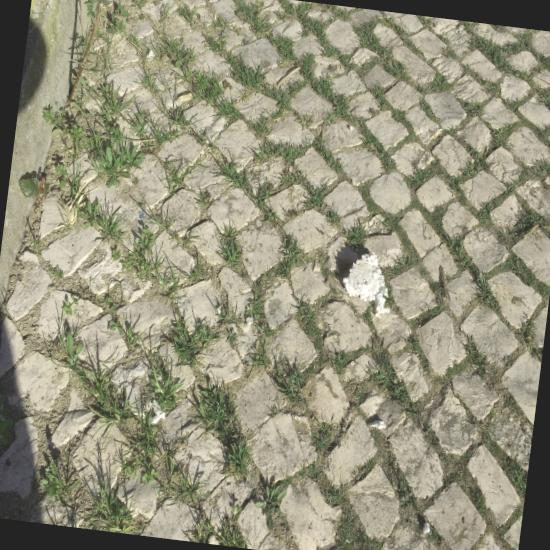Styrofoam piece: (343, 252, 390, 319), (152, 412, 165, 424), (369, 421, 386, 429), (423, 523, 430, 534), (246, 316, 253, 325)
